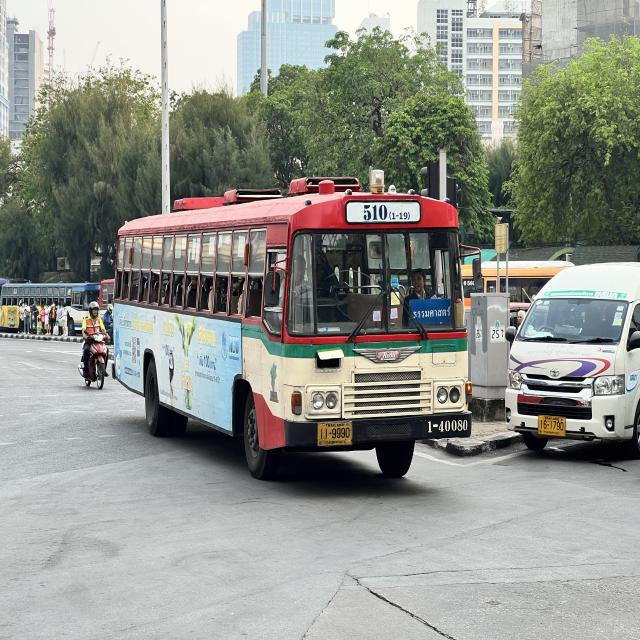BMTA-bus: (111, 172, 475, 480)
Bus-Line-Number: (359, 203, 412, 221)
Destination-Sign-Normal: (409, 300, 453, 328)
